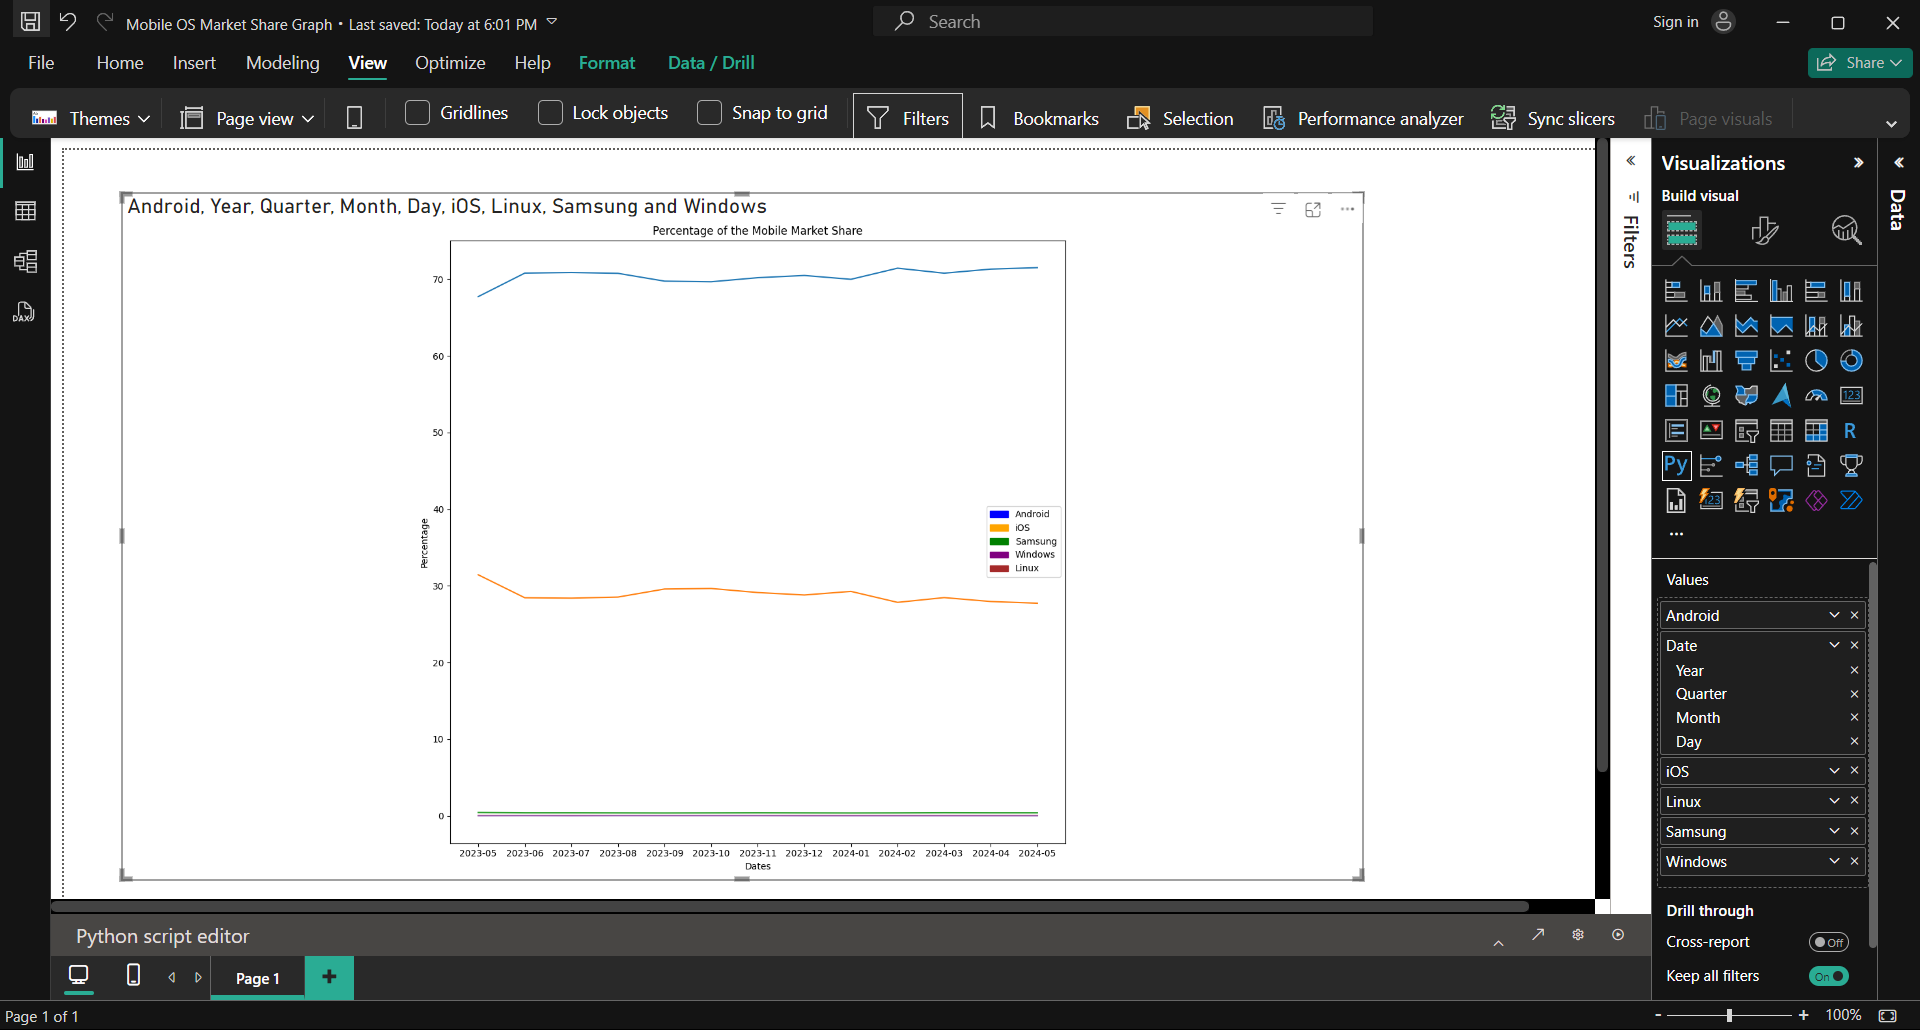

The page's visual inventory and layout, read from the dashboard file:
{"tool":"powerbi","page":{"name":"Page 1","canvas":[1280,720],"ordinal":0},"visuals":[{"type":"pythonVisual","fields":{"Values":["Table 1 (Sheet1).Android","Table 1 (Sheet1).Date.Variation.Date Hierarchy.Year","Table 1 (Sheet1).Date.Variation.Date Hierarchy.Quarter","Table 1 (Sheet1).Date.Variation.Date Hierarchy.Month","Table 1 (Sheet1).Date.Variation.Date Hierarchy.Day","Table 1 (Sheet1).iOS","Table 1 (Sheet1).Linux","Table 1 (Sheet1).Samsung","Table 1 (Sheet1).Windows"]},"box":[46,34,994,550],"z":1000}]}

Visuals, with their boxes on the page's 1280x720 design canvas (x1, y1, x2, y2). These are canvas units, not pixel positions in the 1920x1030 screenshot, which may show the page scaled, cropped or inside an application window:
pythonVisual - Table 1 (Sheet1).Android x Table 1 (Sheet1).Date.Variation.Date Hierarchy.Year: 46,34,1040,584
